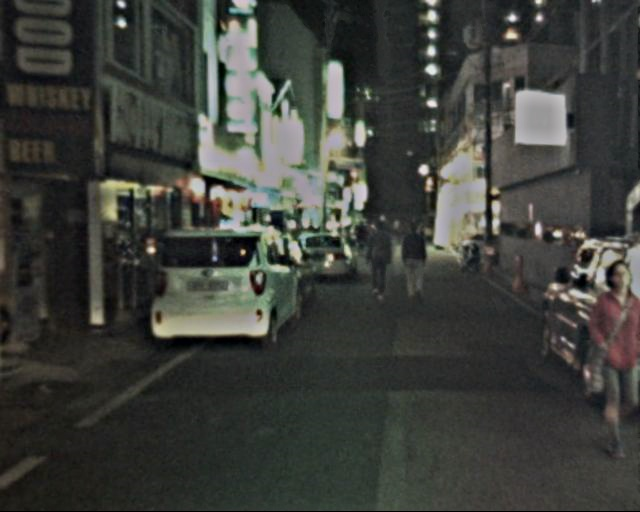person: (566, 265, 640, 457), (399, 222, 433, 303), (363, 219, 397, 298)
